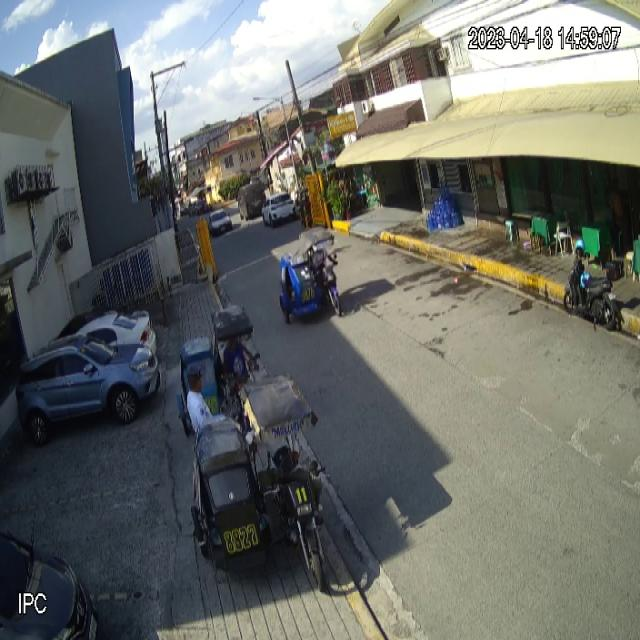Car: (14, 330, 164, 448)
Motorcycle: (564, 252, 626, 334)
Tricycle: (189, 372, 333, 596), (176, 301, 260, 439), (277, 225, 345, 324)
